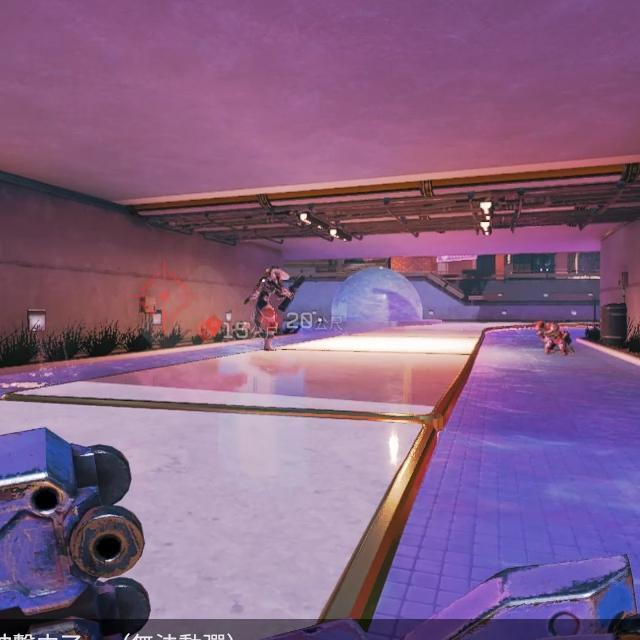avatar: (251, 266, 295, 353)
